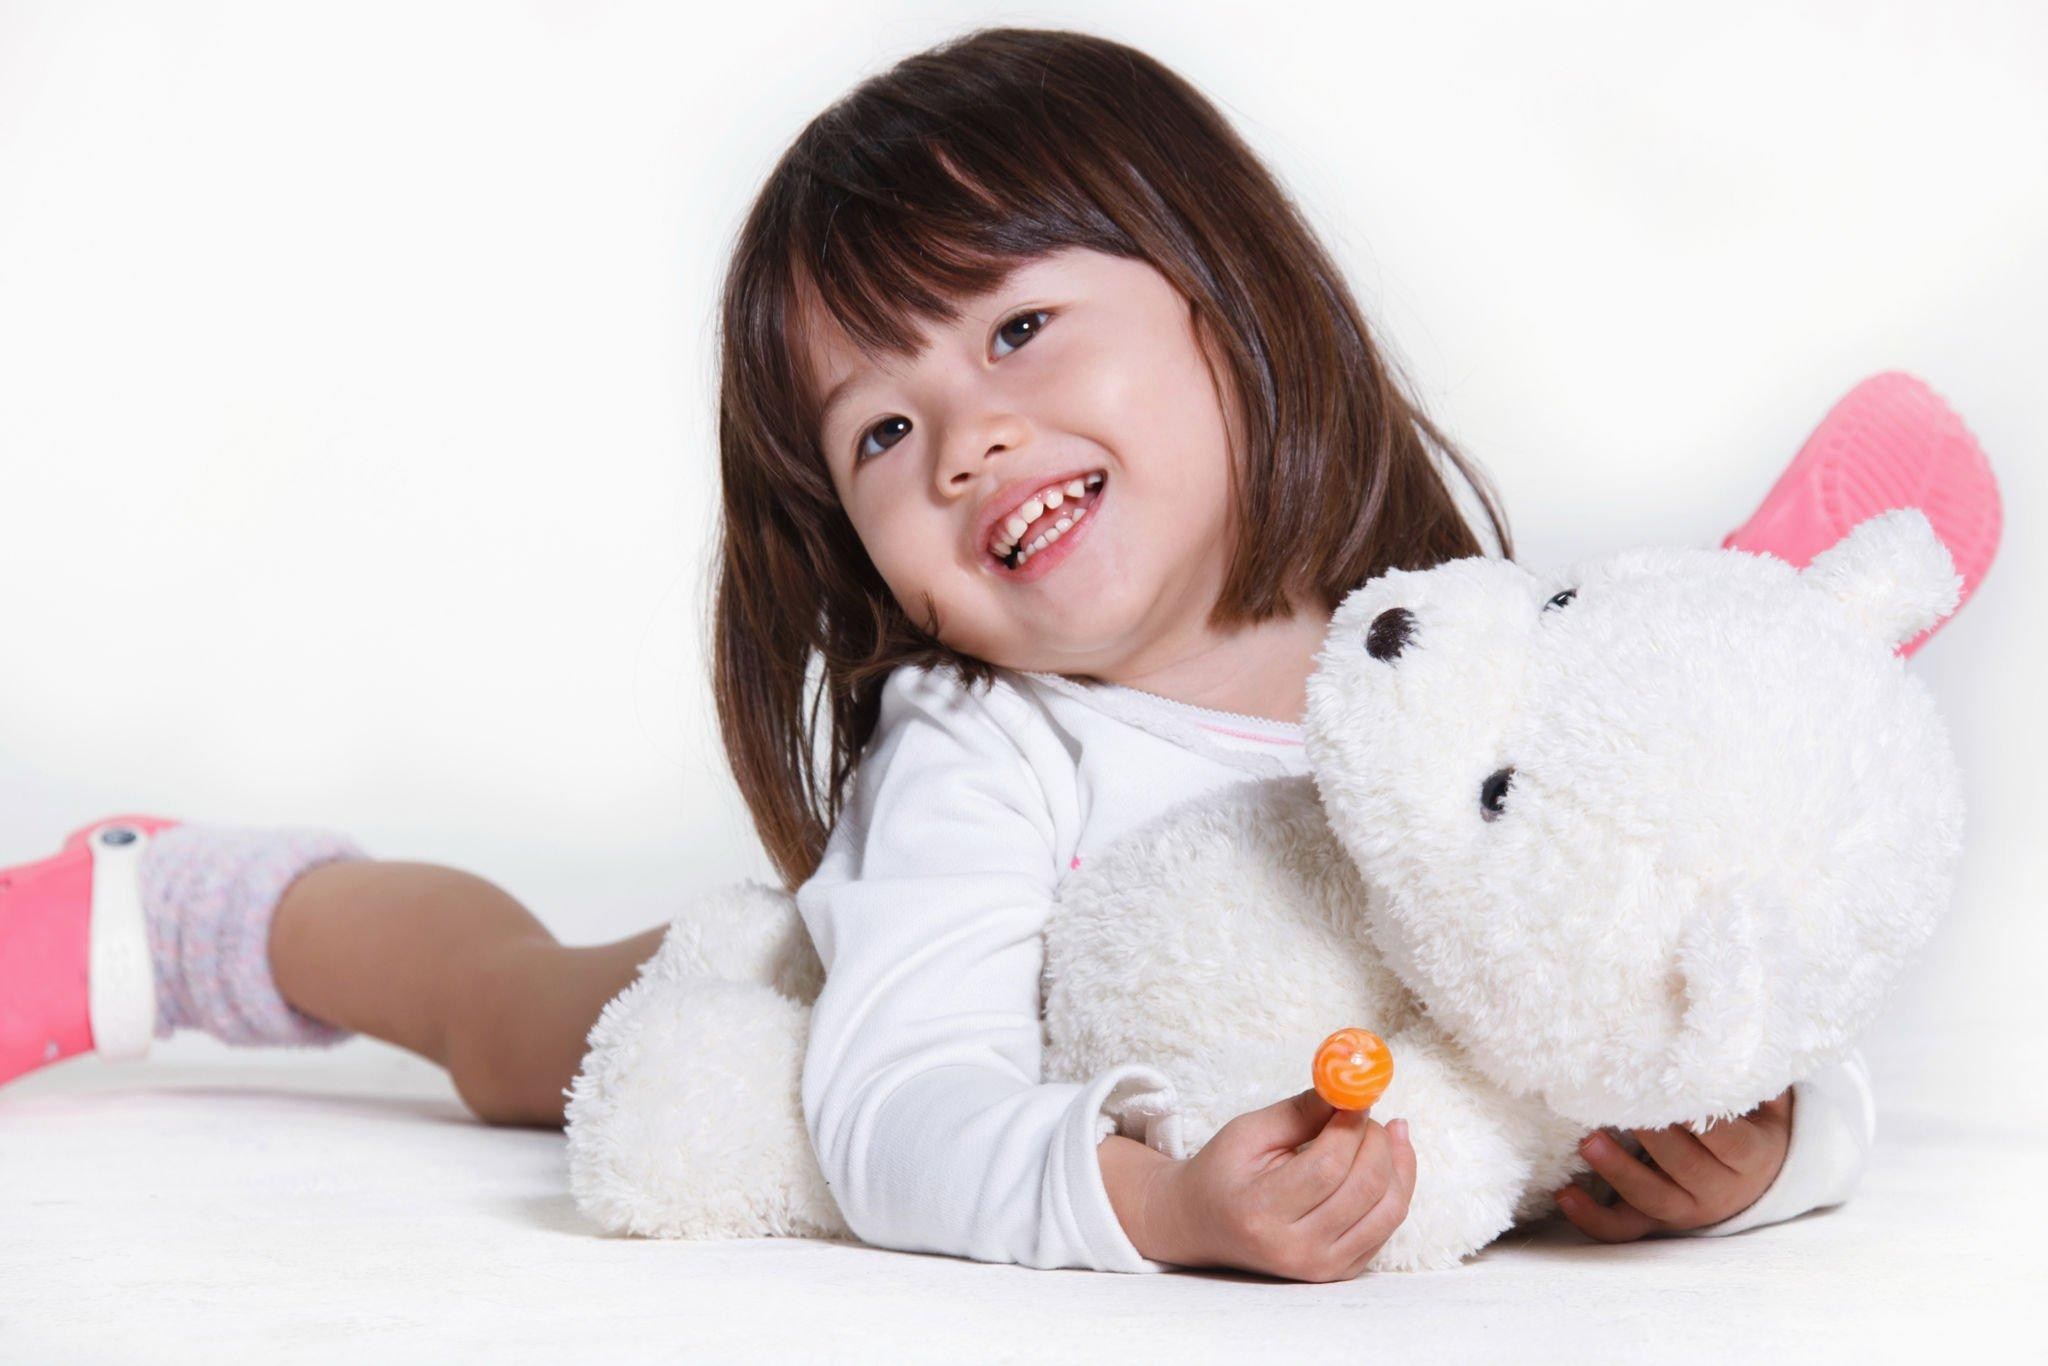Healthy: (757, 142, 1275, 686)
